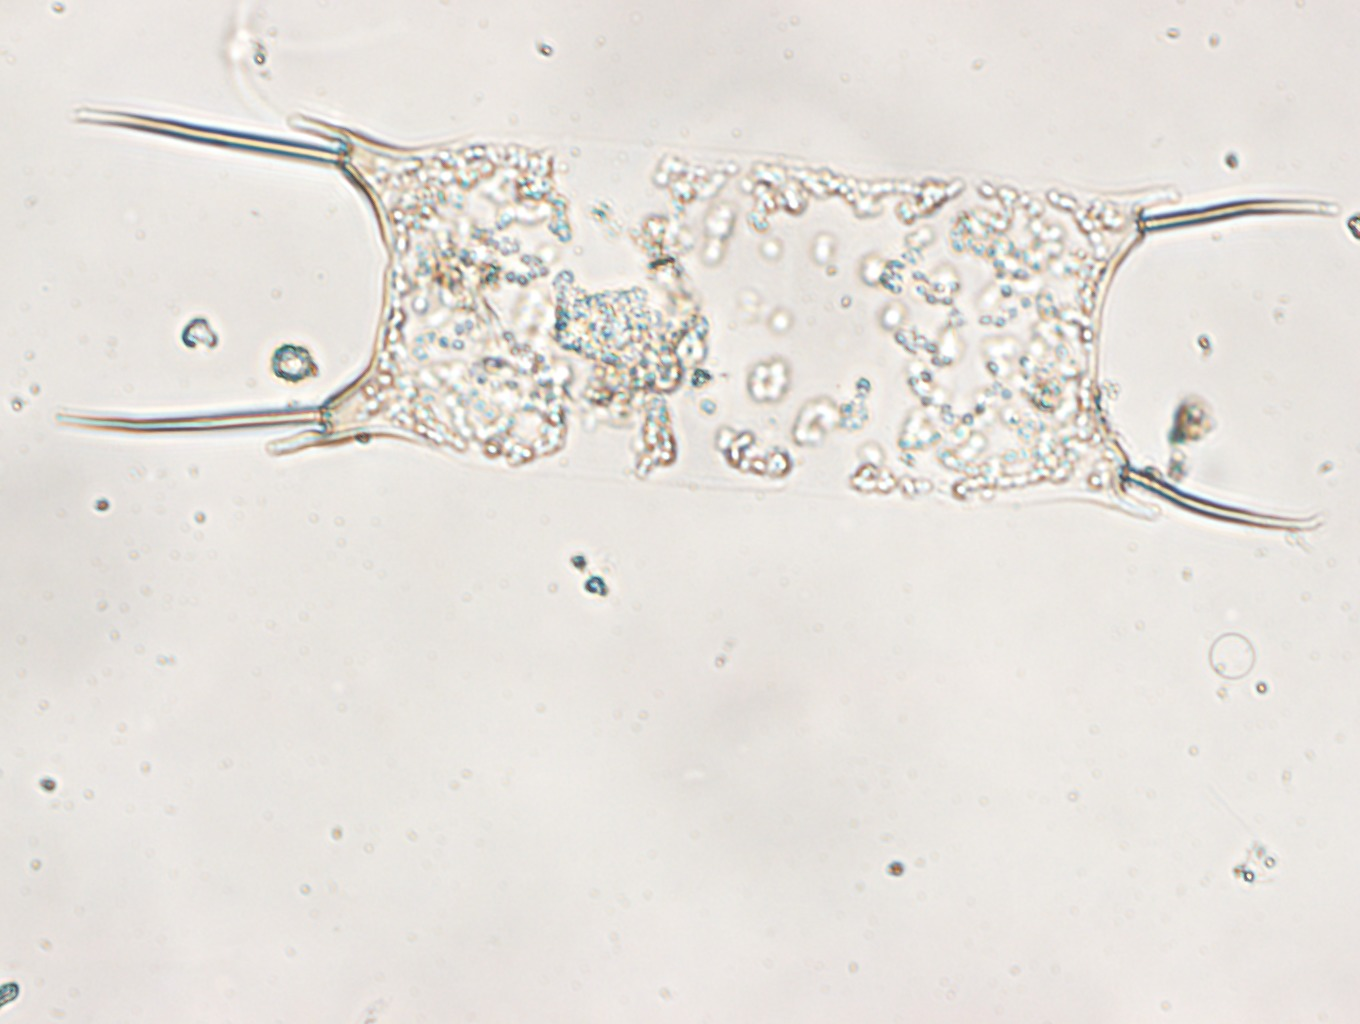biddulphia: (54, 95, 1346, 534)
